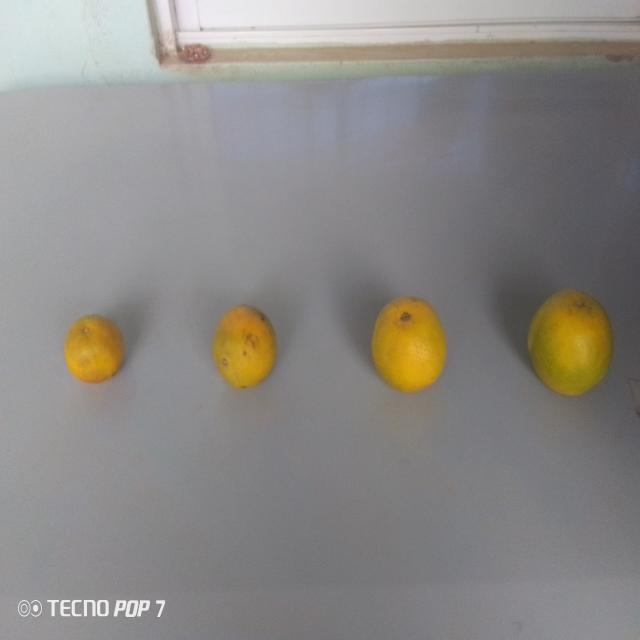agrume: (518, 283, 619, 402), (365, 291, 450, 397), (217, 301, 282, 397), (61, 303, 128, 396)
